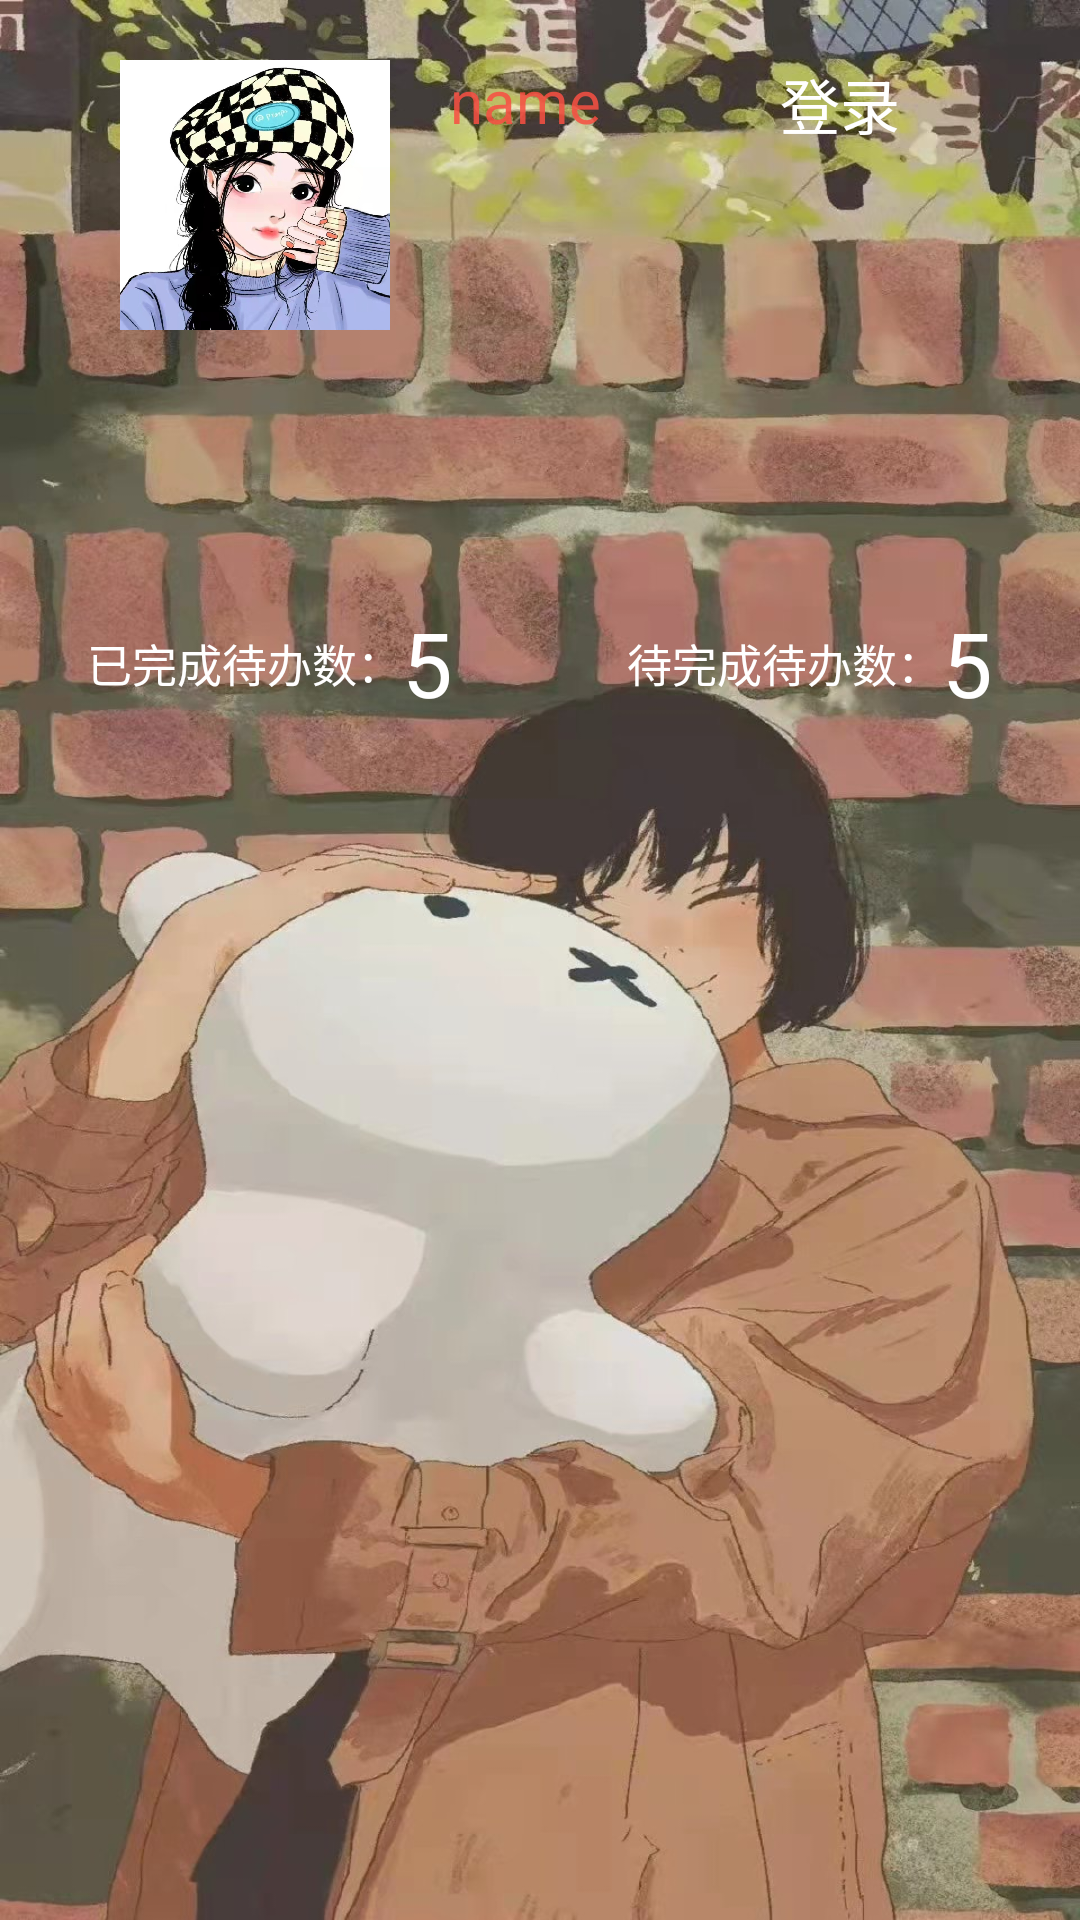

Screen size 1080x1920. Icon name, then its center in pixels as [x,y]:
user: [255,195]
